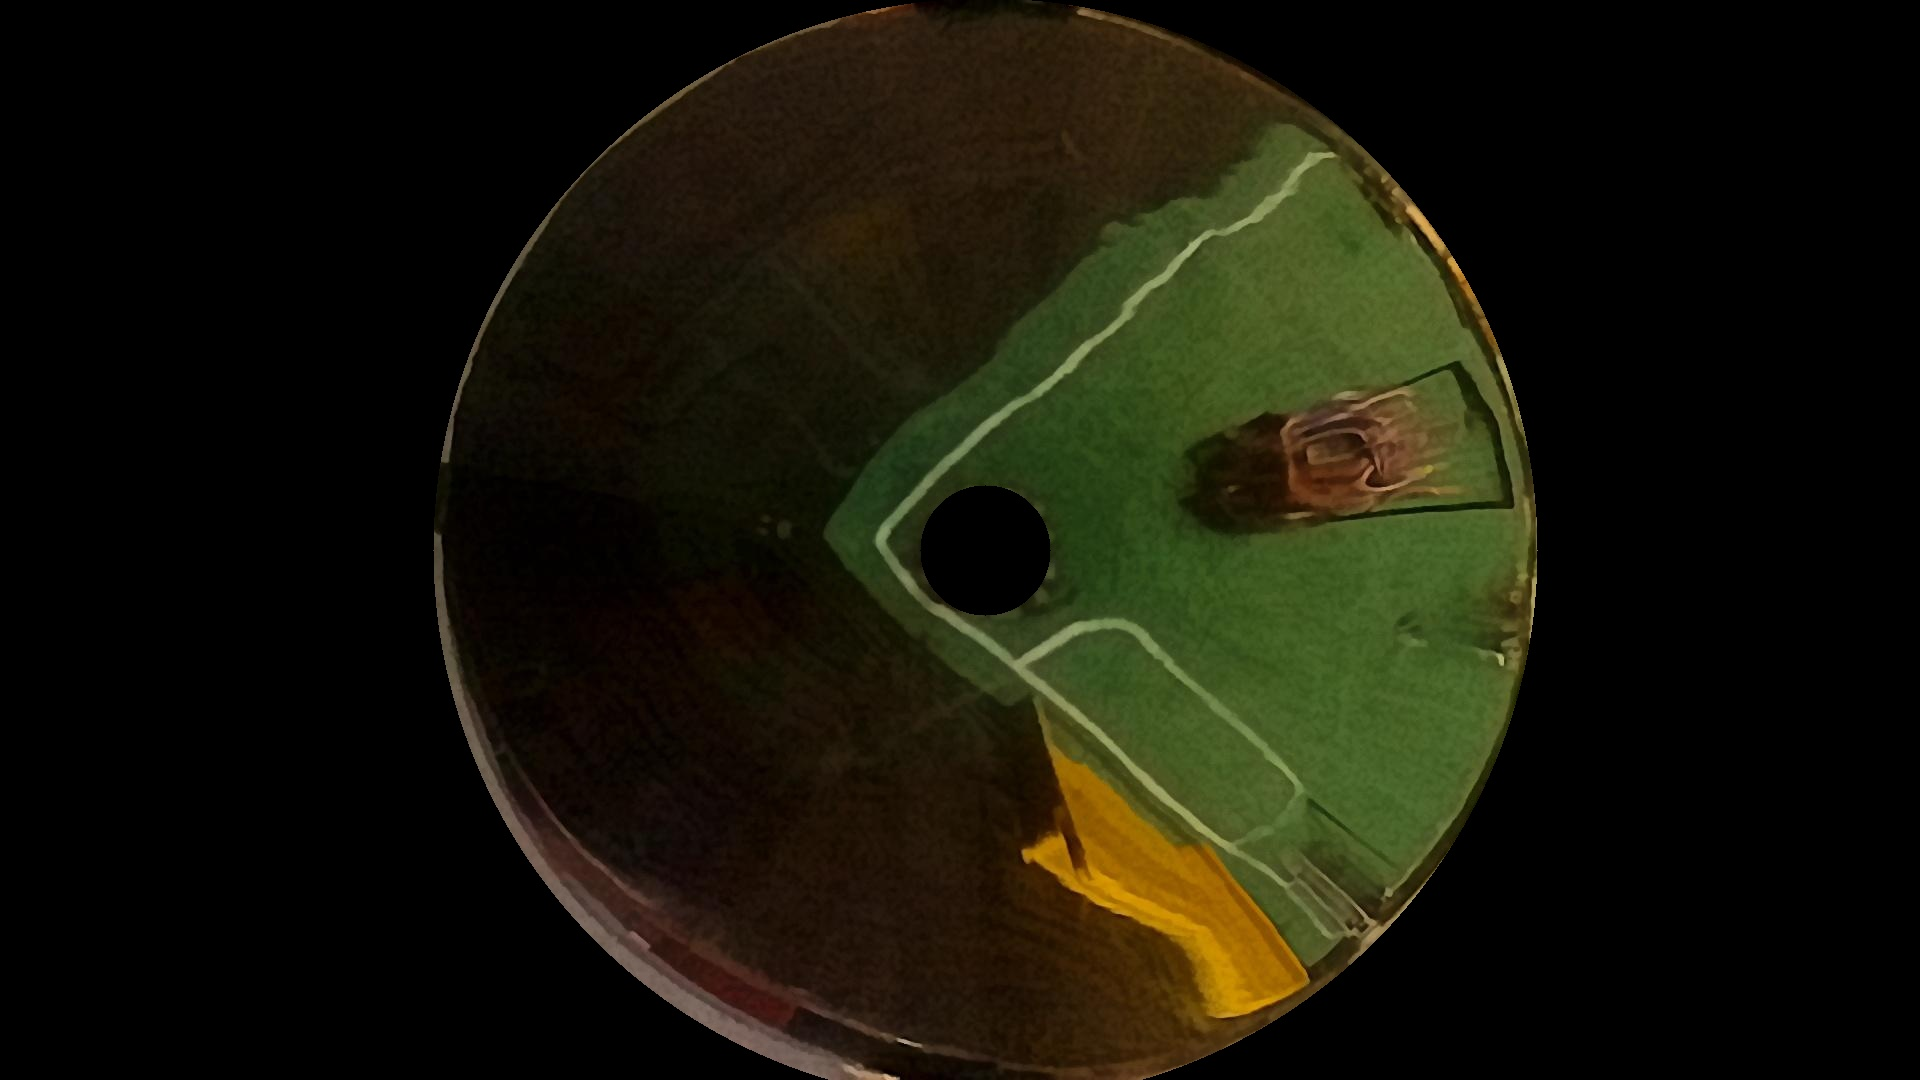robots: (1170, 360, 1513, 527), (1386, 545, 1542, 673), (1282, 836, 1396, 934)
yellow-goal: (1040, 746, 1305, 1015)
